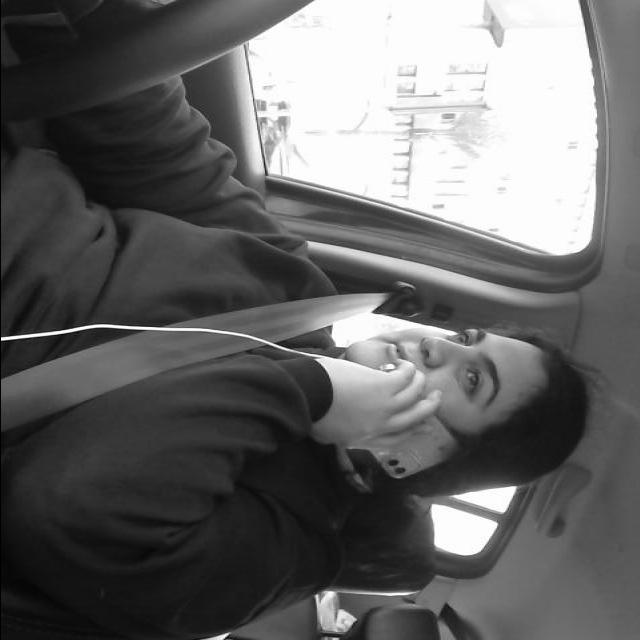mobile use: (336, 361, 468, 482)
